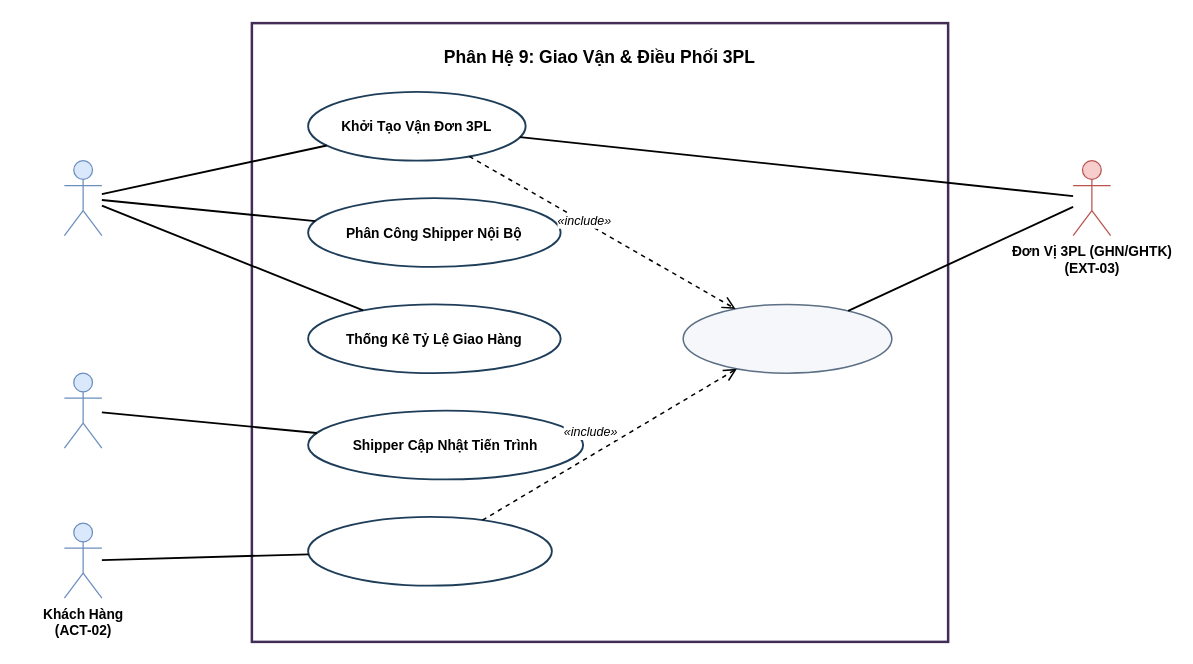
Some shapes in this 1193 by 664 pixel diagram are drawn without their labels. The centre of each missing label's shape, as x and y in pixels:
Khách Hàng Tra Cứu Kiện: point (429, 550)
Quản Lý Vận Hành (ACT-12): point (82, 197)
Shipper Nội Bộ (ACT-08): point (82, 410)
Đồng Bộ Webhook 3PL: point (787, 338)
